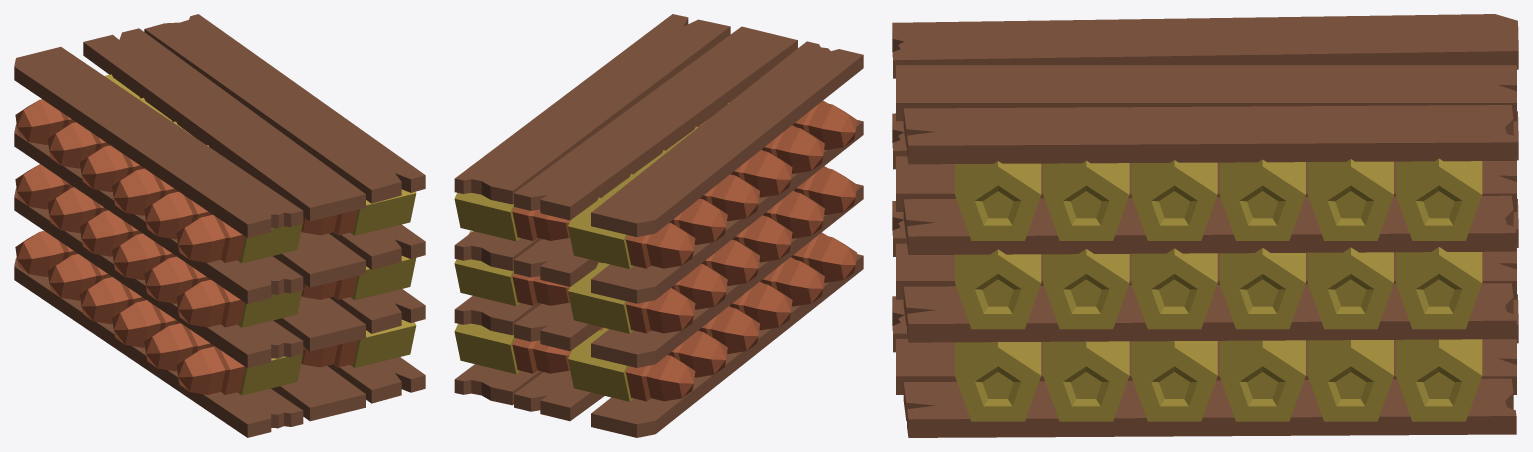
Rendered from LPWarPack_ShellStorage.fbx.
The picture shows the model from 3 angles, left to right: view 1: azimuth 30°, elevation 25°; view 2: azimuth 150°, elevation 25°; view 3: azimuth 270°, elevation 25°; orthographic projection. The views are drawn at different scales.
Visible parts, largest first — view 1: ShellStorage; view 2: ShellStorage; view 3: ShellStorage.
Part boxes in pixels (bbox=[...]): ShellStorage: bbox=[14, 14, 425, 437]; ShellStorage: bbox=[454, 14, 863, 437]; ShellStorage: bbox=[892, 14, 1518, 437].
Bounding box in the file's own units: 59.09 × 54.15 × 105.
